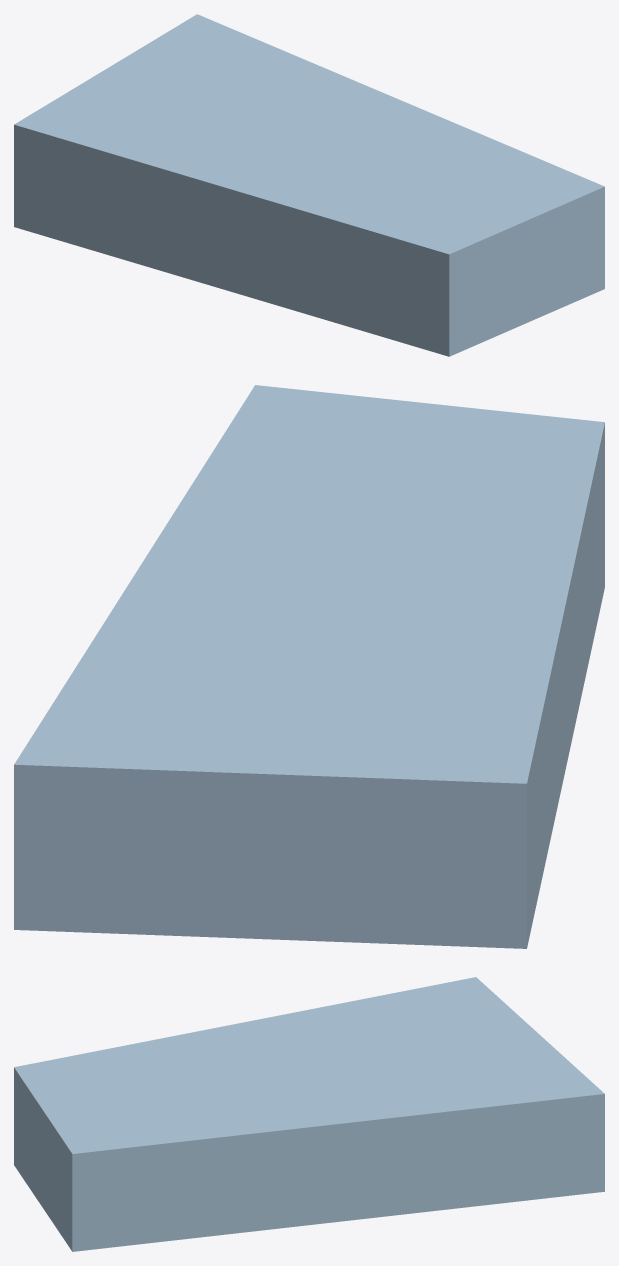
The model's file is njupt_k_dining_04.glb.
3 renders of one model, top to bottom at view 1: azimuth 30°, elevation 25°; view 2: azimuth 150°, elevation 25°; view 3: azimuth 270°, elevation 25°, orthographic. The views are drawn at different scales.
Visible parts, largest first — view 1: njupt_k_dining_04; view 2: njupt_k_dining_04; view 3: njupt_k_dining_04.
Boxes of the visible parts, bbox=[...] form: njupt_k_dining_04: bbox=[14, 14, 604, 356]; njupt_k_dining_04: bbox=[14, 385, 604, 948]; njupt_k_dining_04: bbox=[14, 977, 604, 1251].
Bounding box in the file's own units: 79.93 × 20.6 × 113.
